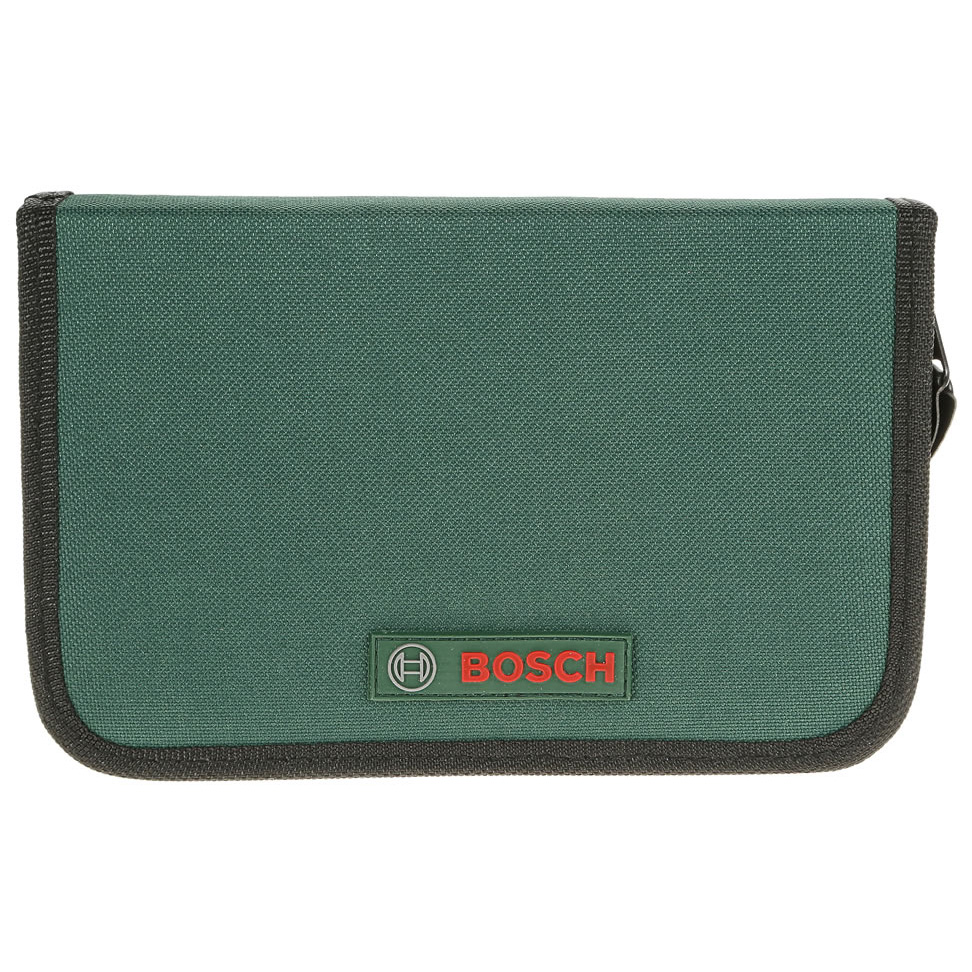Bosch: (454, 646, 619, 691)
